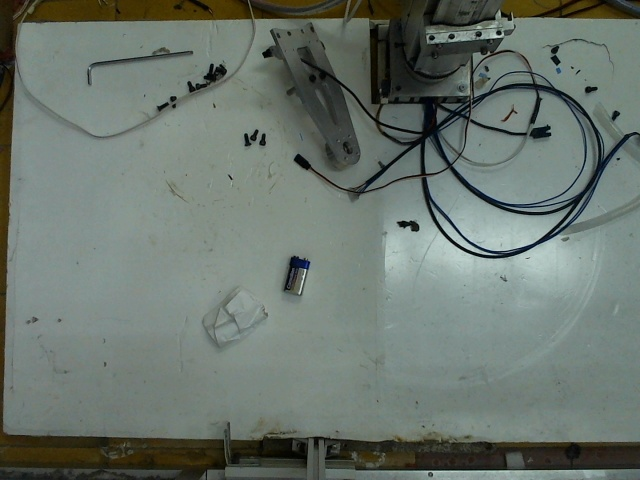battery: (285, 248, 315, 297)
